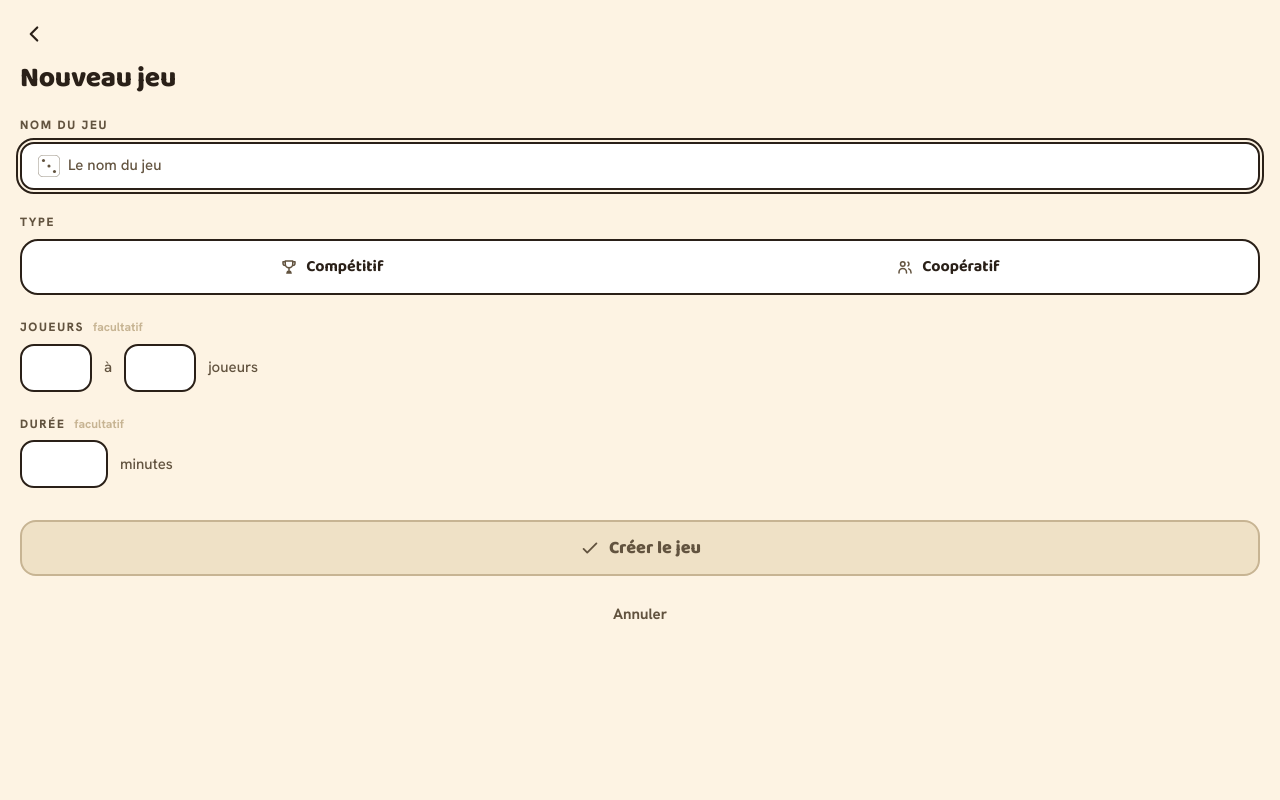
Test: GameForm — create › refuses a duplicate name ignoring case and accents
Type "cafe" into the field labelled "nom du jeu" at (655, 166), box [68,155,1242,176]
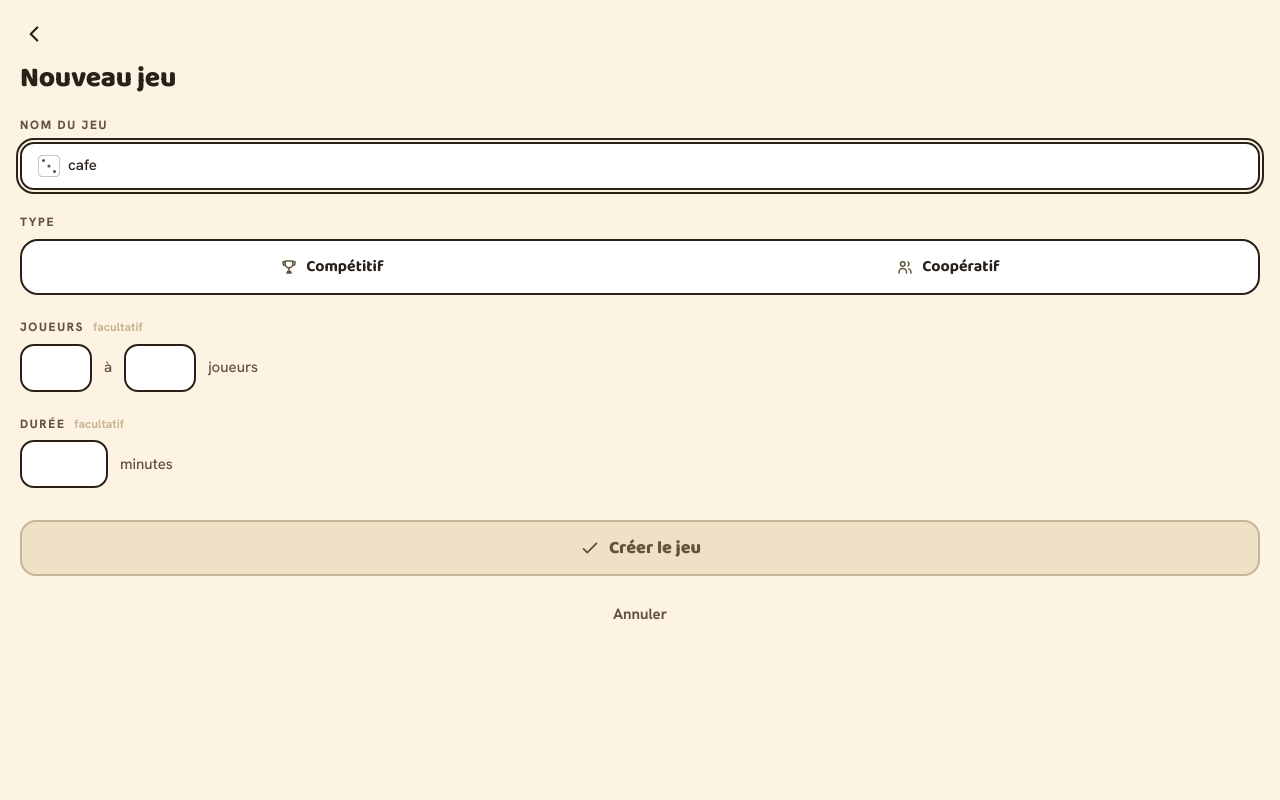
Click the radio button labelled "Compétitif" at (332, 267), box [26,245,638,289]
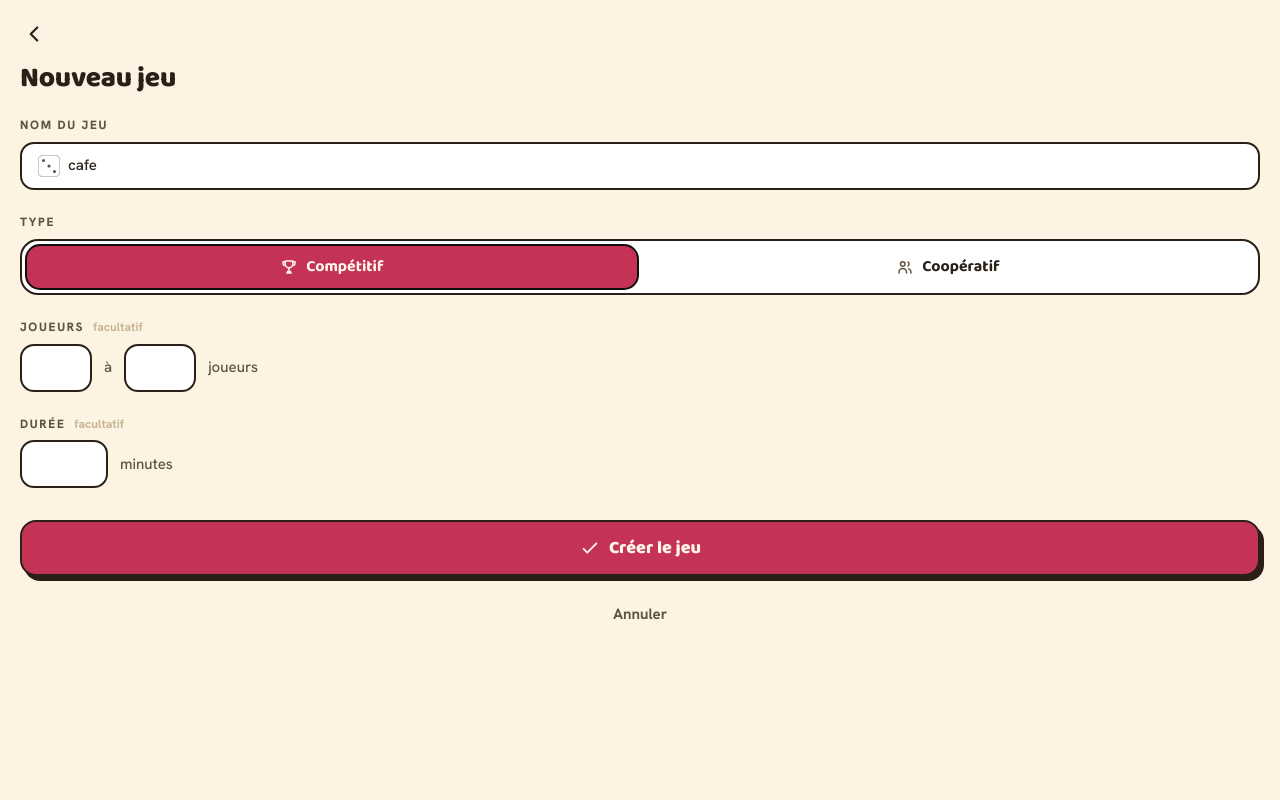
Click the button "Créer le jeu" at (640, 548), box [20,520,1260,576]
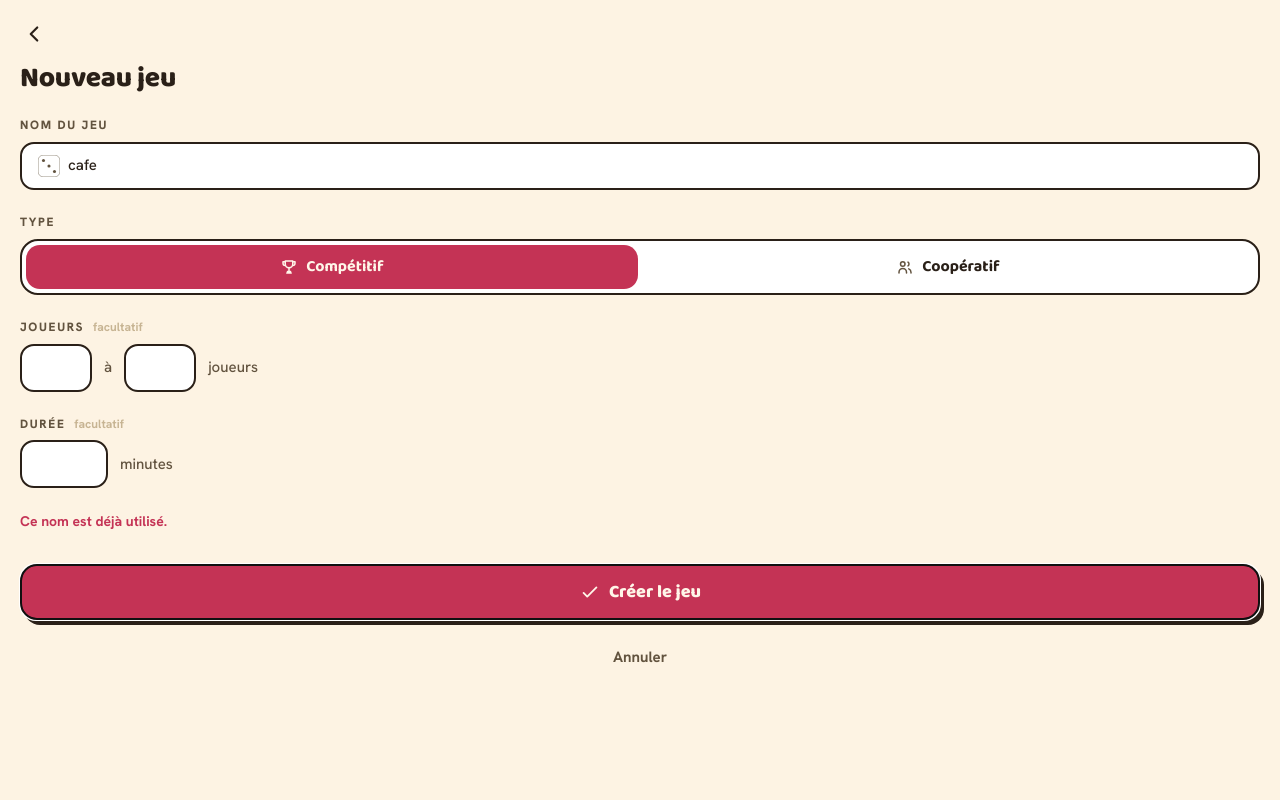
Expected: the text "Ce nom est déjà utilisé." is shown, [20,512,167,530]
